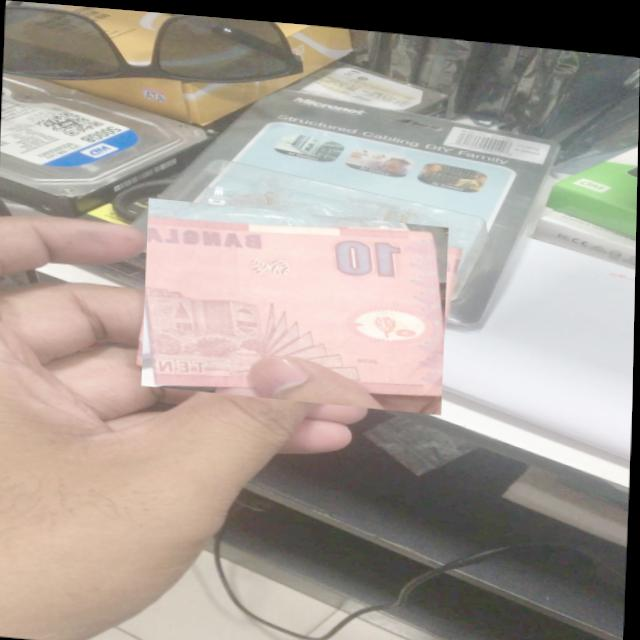Taka: (142, 195, 449, 407)
